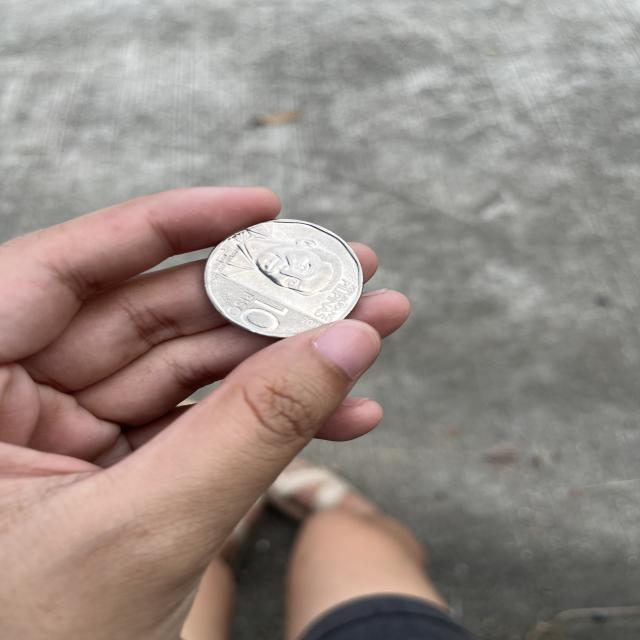10_New_Front: (221, 288, 288, 334)
